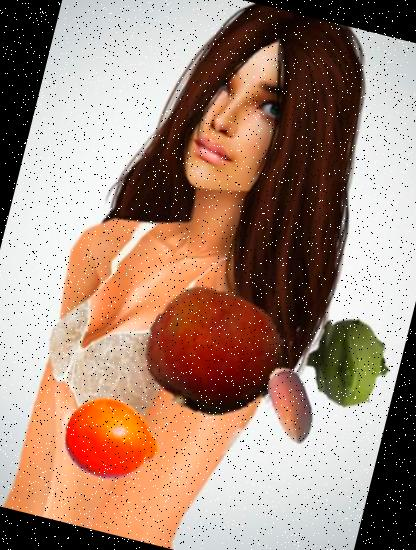Hazelnut: (242, 356, 340, 454)
Kohlrabi: (294, 308, 404, 417)
Peach: (132, 274, 292, 433)
Tangelo: (55, 384, 167, 496)
